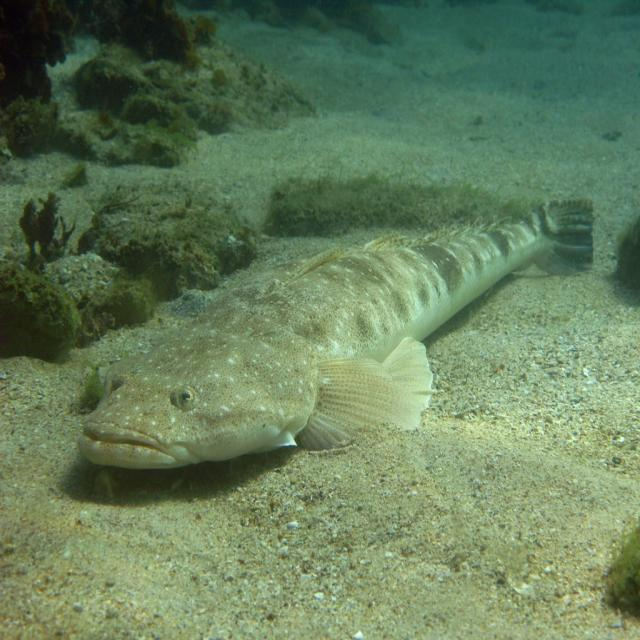Flathead: (73, 190, 601, 500)
